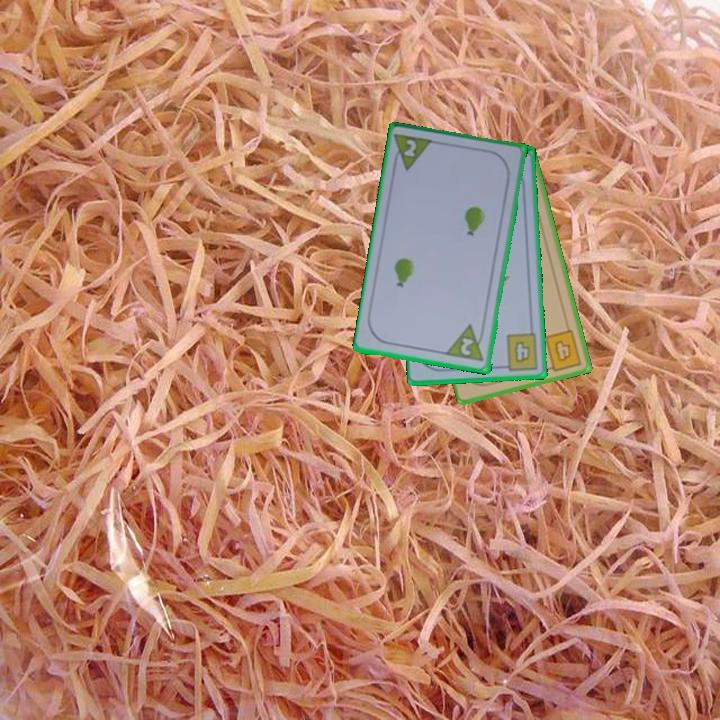2p: (389, 131, 437, 174), (443, 321, 488, 365)
4b: (541, 326, 584, 374), (497, 330, 541, 373)
